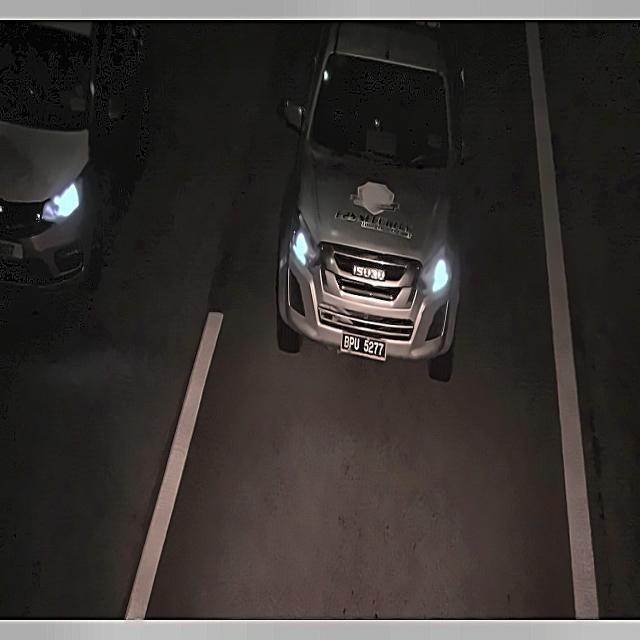car: (337, 326, 389, 375), (0, 238, 27, 273)
